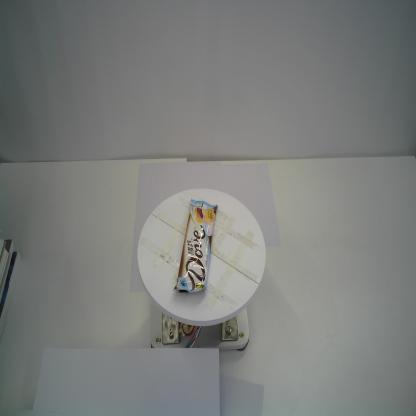Chocolate: (174, 198, 219, 297)
